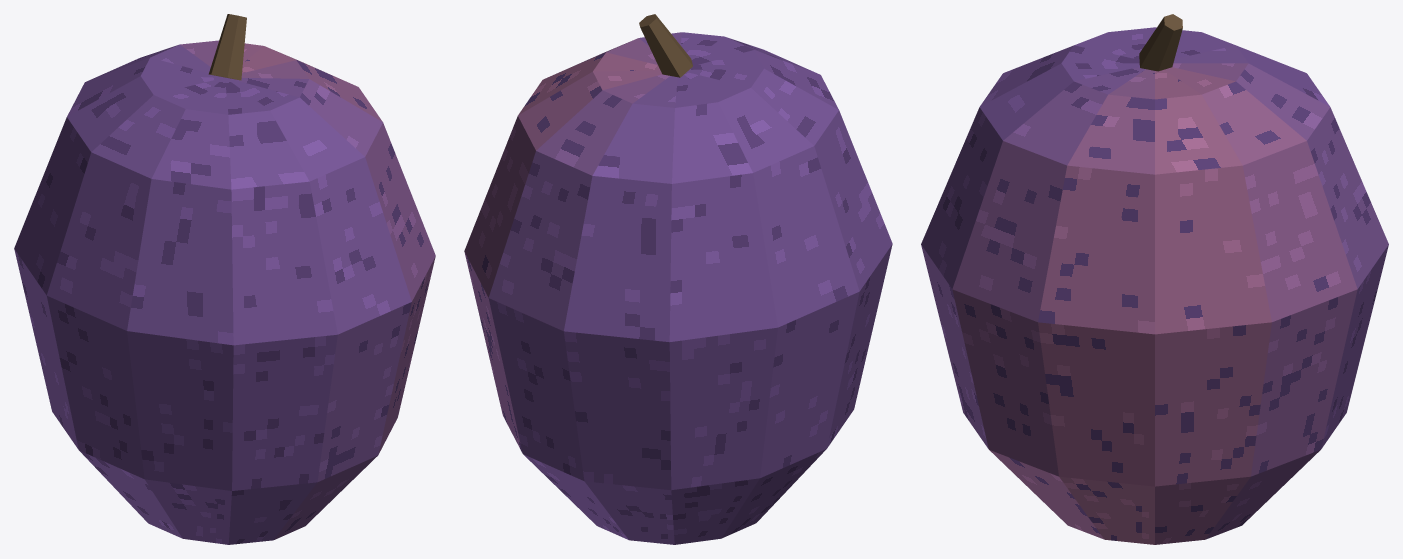
Rendered from plums.glb.
The picture shows the model from 3 angles, left to right: view 1: azimuth 30°, elevation 25°; view 2: azimuth 150°, elevation 25°; view 3: azimuth 270°, elevation 25°; orthographic projection. The views are drawn at different scales.
Visible parts, largest first — view 1: block_plums, block_woody stem; view 2: block_plums, block_woody stem; view 3: block_plums, block_woody stem.
Part boxes in pixels (x1,y1,x2,y2): block_plums: (14,40,435,544); block_woody stem: (208,14,246,80); block_plums: (464,32,892,544); block_woody stem: (639,14,692,77); block_plums: (921,27,1388,544); block_woody stem: (1139,14,1182,71).
Bounding box in the file's own units: 0.061 × 0.0786 × 0.0669.
Materials: 1 (1 with a texture image).
